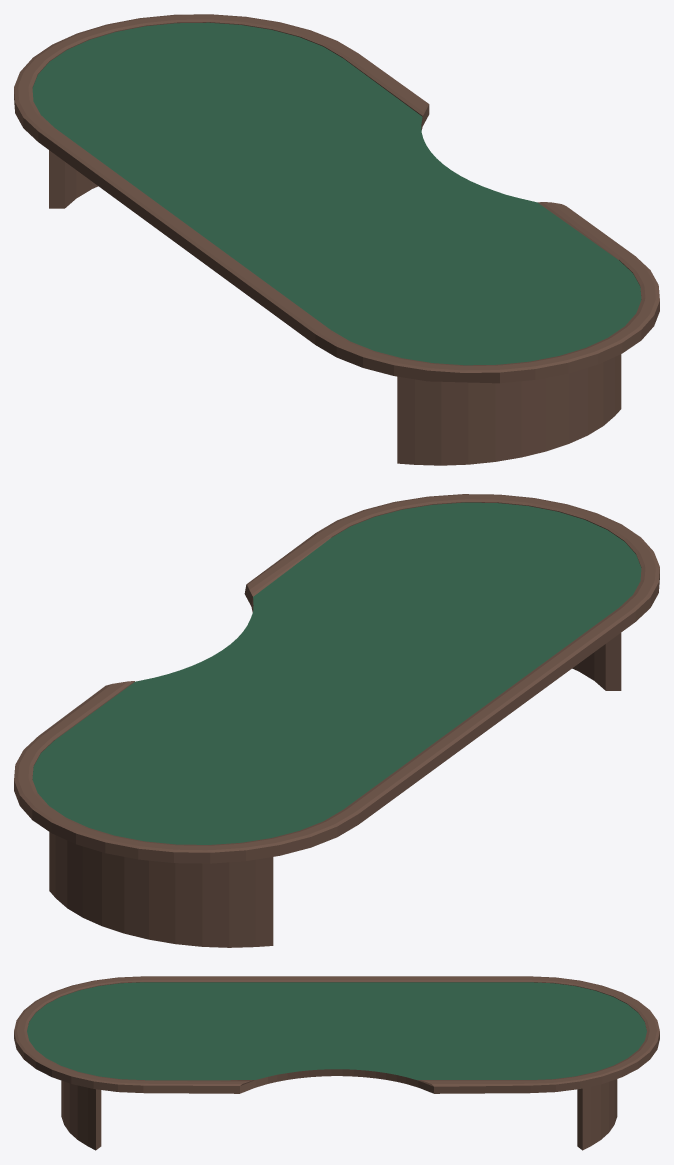
File: table.glb
3 renders of one model, top to bottom at view 1: azimuth 30°, elevation 25°; view 2: azimuth 150°, elevation 25°; view 3: azimuth 270°, elevation 25°, orthographic. The views are drawn at different scales.
Visible parts, largest first — view 1: TableTop, Leg1, Leg1.001; view 2: TableTop, Leg1.001, Leg1; view 3: TableTop, Leg1.001, Leg1.
Part boxes in pixels (box(x1,y1,x2,y2)): TableTop: box(14, 14, 659, 383); Leg1: box(397, 354, 621, 465); Leg1.001: box(49, 150, 97, 208); TableTop: box(14, 494, 659, 863); Leg1.001: box(49, 832, 273, 947); Leg1: box(572, 633, 621, 690); TableTop: box(14, 976, 659, 1093); Leg1.001: box(577, 1079, 617, 1150); Leg1: box(61, 1080, 101, 1150).
Size of the model in its own units: 2.01 by 0.7 by 5.
2 materials, 2 textured.
